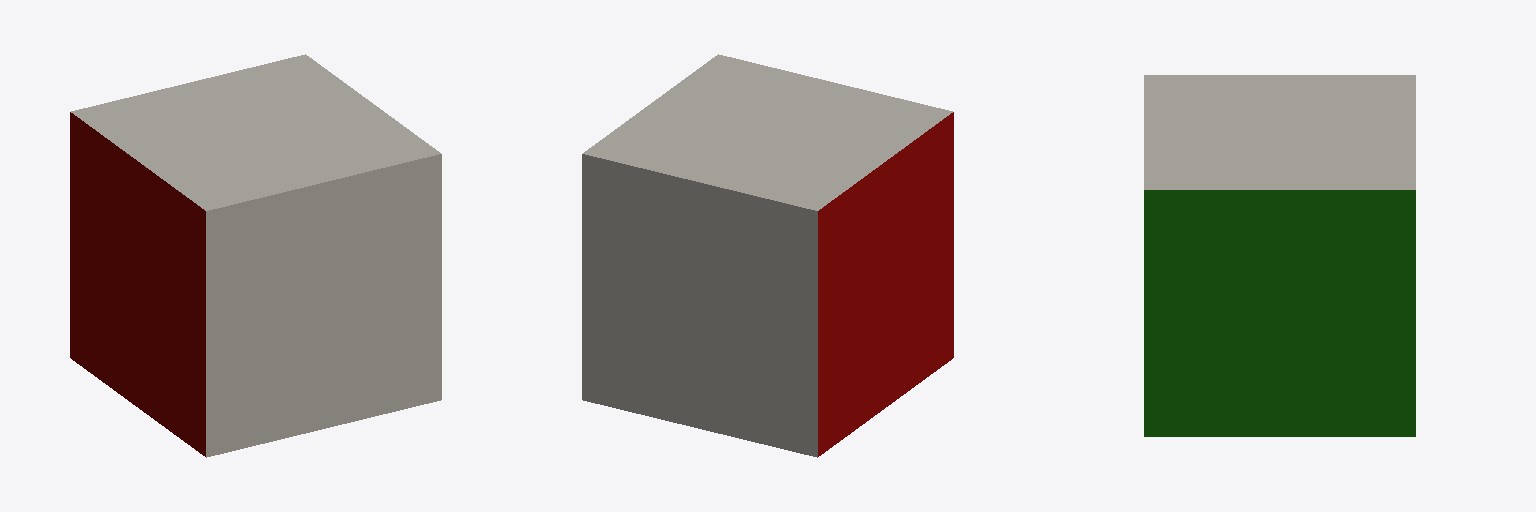
The model's file is CornellBox.obj.
The picture shows the model from 3 angles: view 1: azimuth 30°, elevation 25°; view 2: azimuth 150°, elevation 25°; view 3: azimuth 270°, elevation 25°; orthographic projection.
Visible parts, largest first — view 1: ceiling, leftWall, backWall; view 2: floor, leftWall, backWall; view 3: rightWall, backWall.
Boxes of the visible parts, x1,y1,x2,y2 form: ceiling: [206, 154, 441, 457]; leftWall: [70, 112, 205, 456]; backWall: [71, 54, 440, 210]; floor: [582, 154, 817, 457]; leftWall: [818, 112, 953, 456]; backWall: [583, 54, 952, 210]; rightWall: [1144, 190, 1415, 436]; backWall: [1144, 75, 1415, 189].
Size of the model in its own units: 2 by 2 by 2.